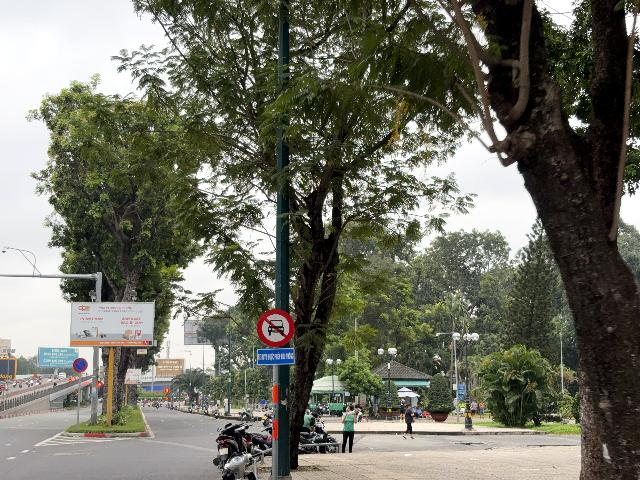cam-o-to: (257, 310, 295, 347)
